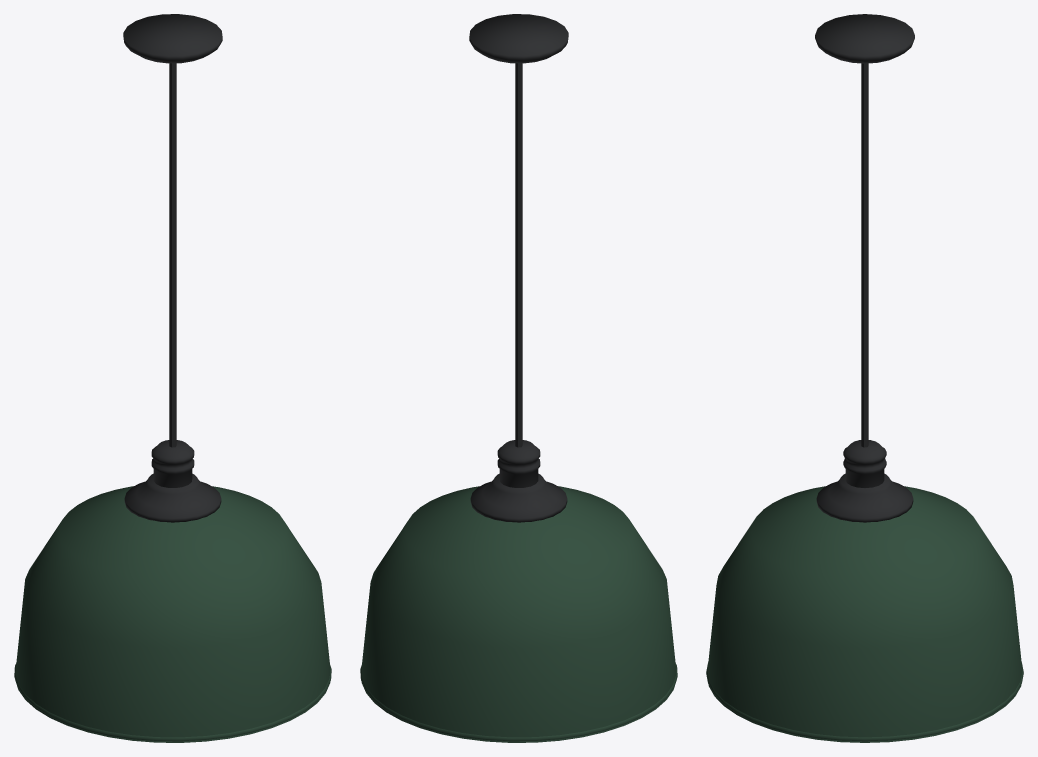
Rendered from pendantIndustrial.glb.
3 views of the same model, side by side, from view 1: azimuth 30°, elevation 25°; view 2: azimuth 150°, elevation 25°; view 3: azimuth 270°, elevation 25° (orthographic).
Visible parts, largest first — view 1: pendantIndustrial; view 2: pendantIndustrial; view 3: pendantIndustrial.
Boxes of the visible parts, bbox=[...] form: pendantIndustrial: bbox=[14, 14, 331, 742]; pendantIndustrial: bbox=[360, 14, 677, 742]; pendantIndustrial: bbox=[706, 14, 1023, 742].
Bounding box in the file's own units: 0.382 × 0.87 × 0.382.
